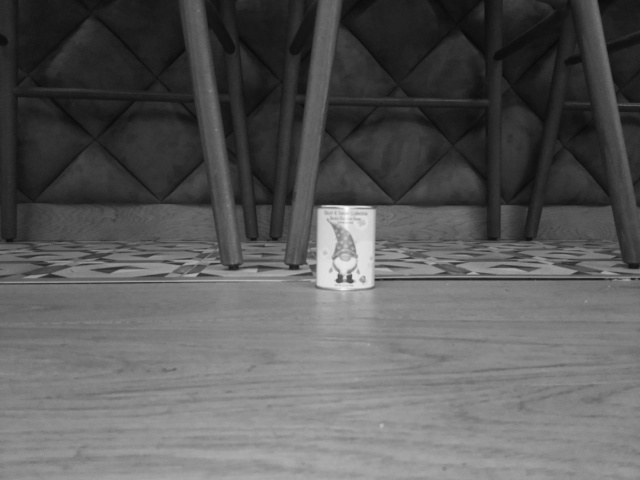gnome: (322, 217, 369, 286)
